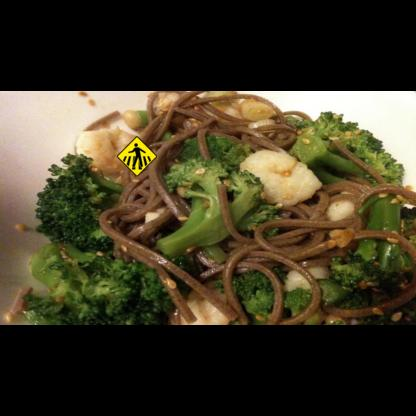A-32b: (116, 136, 158, 177)
